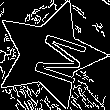M_W: (16, 25, 83, 85)
